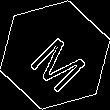M_NE: (20, 21, 90, 89)
